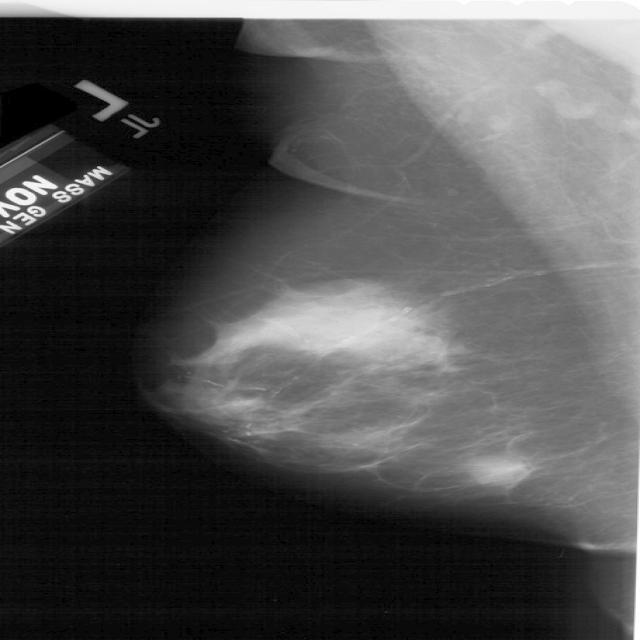tumour: (466, 455, 530, 488)
